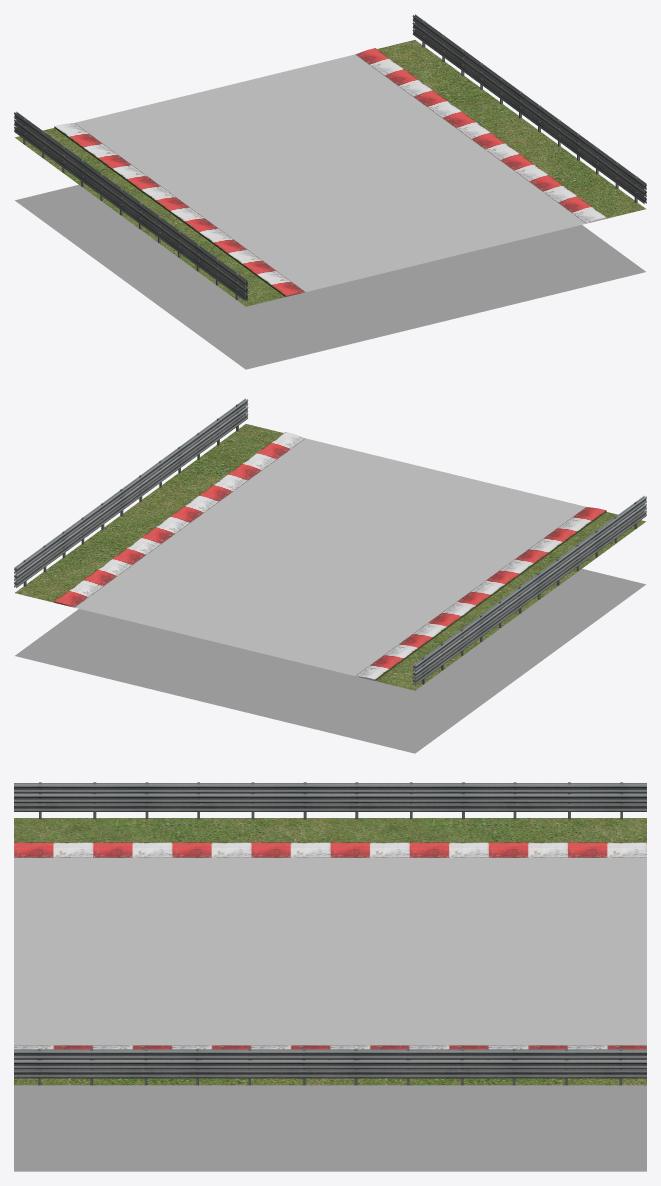
File: Track_Finish_Line.fbx
3 views of the same model, one above another, from view 1: azimuth 30°, elevation 25°; view 2: azimuth 150°, elevation 25°; view 3: azimuth 270°, elevation 25° (orthographic). The views are drawn at different scales.
Parts seen in each view (by area): view 1: Road, Snap_Plane_Invisible, Grass, Rail_A, Rail_B, Curb_B, Carb_A; view 2: Road, Snap_Plane_Invisible, Grass, Rail_A, Rail_B, Curb_B, Carb_A; view 3: Road, Snap_Plane_Invisible, Grass, Rail_B, Rail_A, Carb_A, Curb_B.
Part boxes in pixels (x1,y1,x2,y2): Road: [75, 54, 585, 291]; Snap_Plane_Invisible: [15, 184, 645, 369]; Grass: [15, 40, 645, 306]; Rail_A: [14, 111, 248, 301]; Rail_B: [412, 14, 646, 203]; Curb_B: [355, 48, 606, 223]; Carb_A: [54, 123, 305, 296]; Road: [75, 438, 585, 675]; Snap_Plane_Invisible: [15, 568, 645, 753]; Grass: [15, 424, 645, 690]; Rail_A: [412, 495, 646, 685]; Rail_B: [14, 398, 248, 587]; Curb_B: [54, 432, 305, 607]; Carb_A: [355, 507, 606, 680]; Road: [14, 858, 646, 1045]; Snap_Plane_Invisible: [14, 1085, 646, 1171]; Grass: [14, 818, 646, 1085]; Rail_B: [14, 1048, 646, 1085]; Rail_A: [14, 782, 646, 819]; Carb_A: [14, 842, 646, 857]; Curb_B: [14, 1045, 646, 1049].
Size of the model in its own units: 20.05 by 4.24 by 20.
